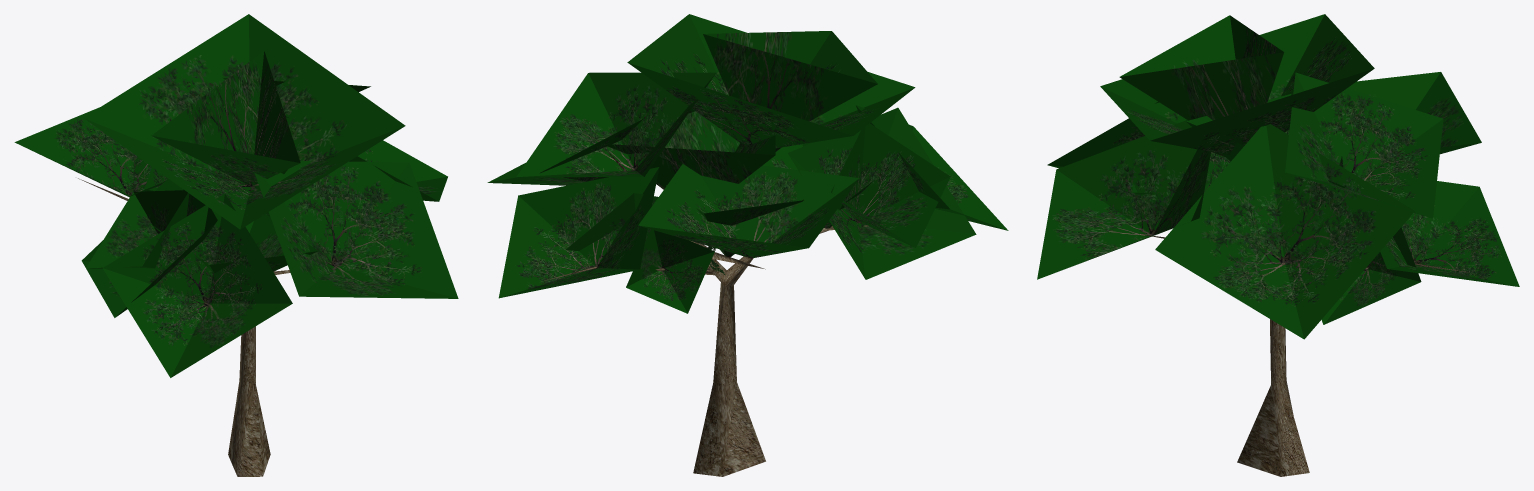
Rendered from decd_treecanopy_a1_l2.fbx.
The picture shows the model from 3 angles, left to right: view 1: azimuth 30°, elevation 25°; view 2: azimuth 150°, elevation 25°; view 3: azimuth 270°, elevation 25°; orthographic projection. The views are drawn at different scales.
Parts seen in each view (by area): view 1: mesh_node; view 2: mesh_node; view 3: mesh_node.
Part boxes in pixels (x1,y1,x2,y2): mesh_node: (14, 14, 458, 476); mesh_node: (487, 14, 1008, 476); mesh_node: (1037, 14, 1519, 476).
Bounding box in the file's own units: 24.08 × 23.4 × 24.25.
